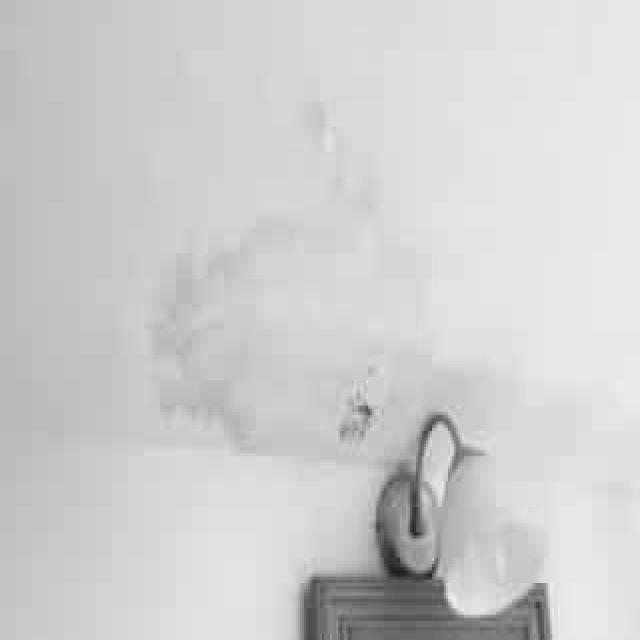stain marks: (138, 75, 460, 458)
